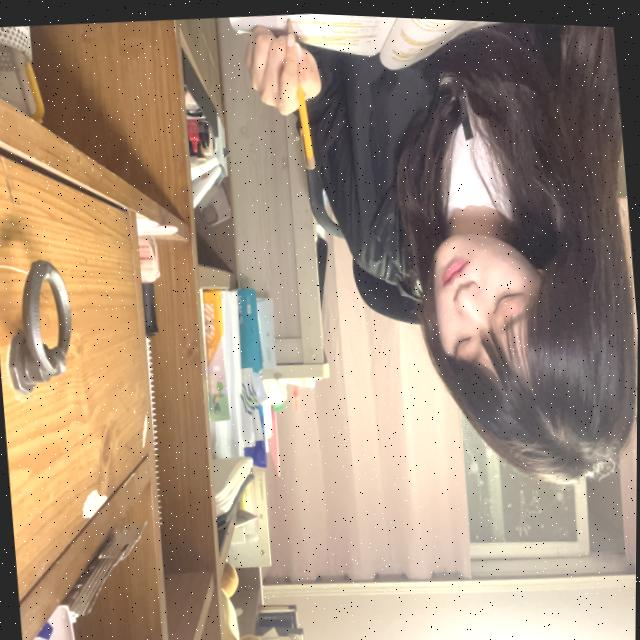studying-person: (190, 7, 640, 524)
